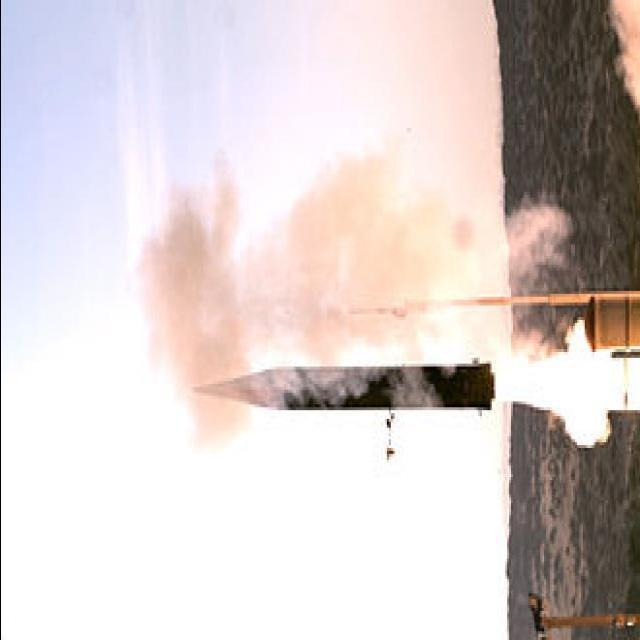Missile: (175, 350, 502, 420)
